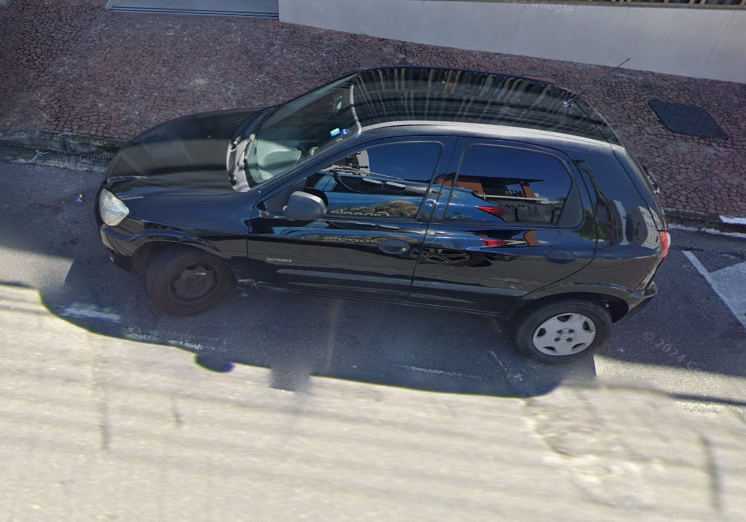car: (92, 55, 675, 371)
